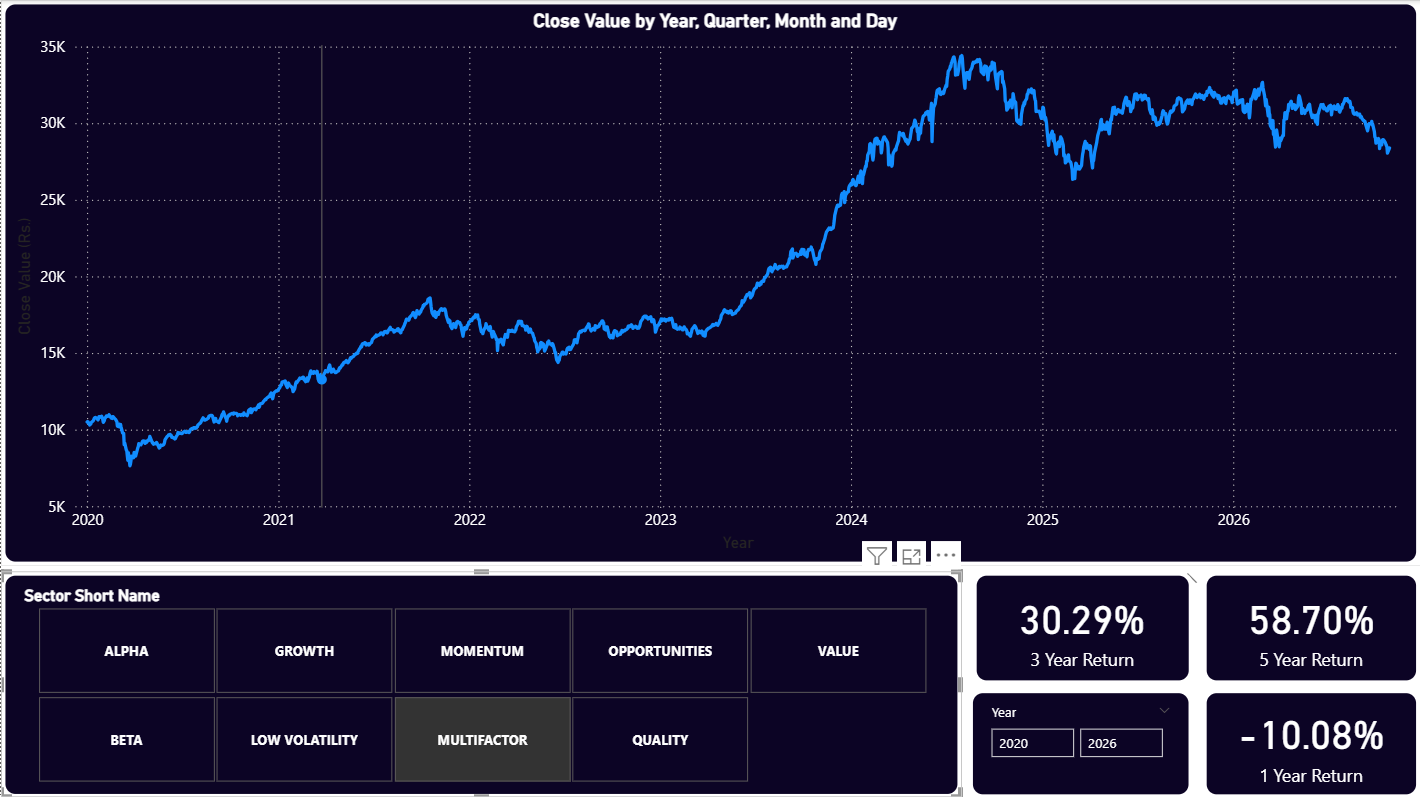

What the dashboard file says about the page in this screenshot:
{"tool":"powerbi","page":{"name":"Individual Report","canvas":[1280,720],"ordinal":1},"visuals":[{"type":"lineChart","title":" Close Value by Year, Quarter, Month and Day","fields":{"Category":["Date Table.Date.Variation.Date Hierarchy.Year","Date Table.Date.Variation.Date Hierarchy.Quarter","Date Table.Date.Variation.Date Hierarchy.Month","Date Table.Date.Variation.Date Hierarchy.Day"],"Y":["Max(Combine Data.Close)"]},"box":[0,0,1280.2,510.5],"z":0},{"type":"slicer","fields":{"Values":["Combine Data.Sector Short Name"]},"box":[0,515.1,866.3,204.7],"z":1000},{"type":"slicer","fields":{"Values":["Date Table.Year"]},"box":[872.1,620.9,202.3,98.8],"z":2000},{"type":"card","fields":{"Values":["Combine Data.3 Year Return"]},"box":[875.6,514.5,198.8,102.3],"z":3000},{"type":"card","fields":{"Values":["Combine Data.5 Year Return"]},"box":[1083.7,514.5,196.5,102.3],"z":4000},{"type":"card","fields":{"Values":["Combine Data.1 Year Return"]},"box":[1083.7,620.9,196.5,98.8],"z":5000}]}

Visuals, with their boxes in screenshot pixels (x1, y1, x2, y2), scaled from the page's 1280x720 canvas onto the 1420x797 screenshot:
" Close Value by Year, Quarter, Month and Day" lineChart: x1=0 y1=0 x2=1419 y2=565
slicer - Combine Data.Sector Short Name: x1=0 y1=570 x2=961 y2=796
slicer - Date Table.Year: x1=967 y1=687 x2=1192 y2=796
card - Combine Data.3 Year Return: x1=971 y1=570 x2=1192 y2=683
card - Combine Data.5 Year Return: x1=1202 y1=570 x2=1419 y2=683
card - Combine Data.1 Year Return: x1=1202 y1=687 x2=1419 y2=796
